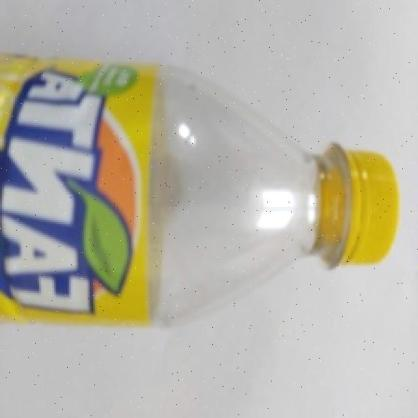bottle: (0, 62, 407, 327)
cap: (325, 140, 395, 268)
label: (6, 37, 161, 326)
